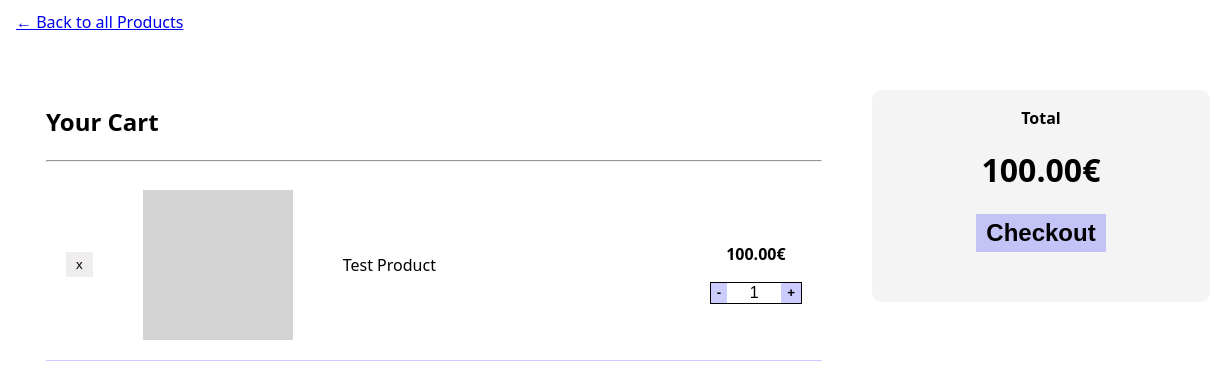
test behaviour of quantity changes › increases quantity of single product (product1) and updates total
Click the button "+" at (791,293), box [781, 283, 801, 303]
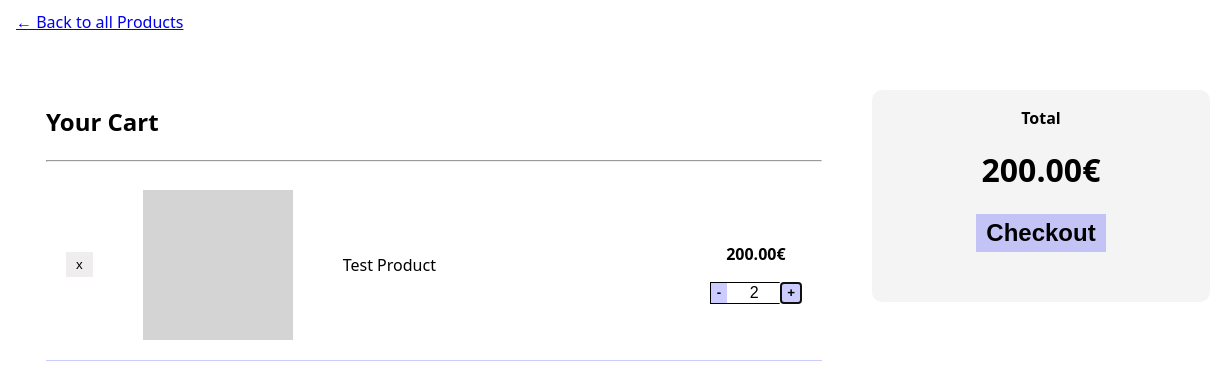
Click the button "+" at (791,293), box [781, 283, 801, 303]
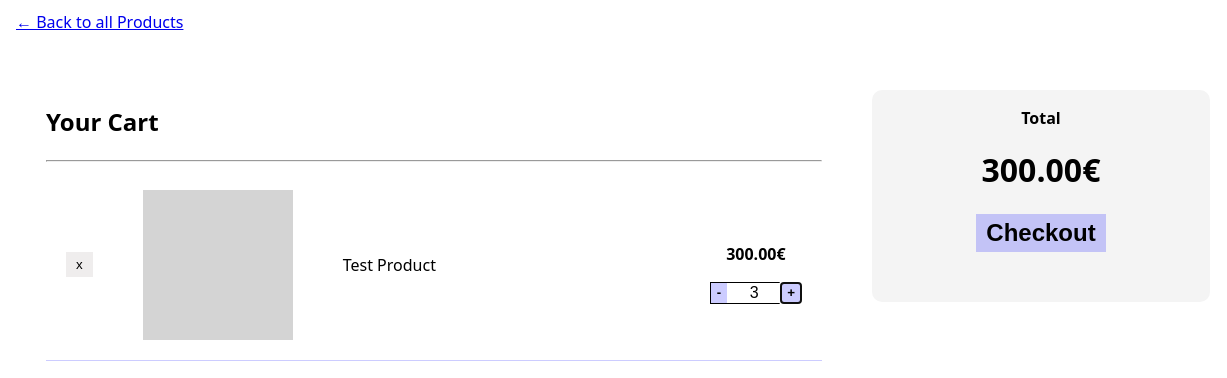
Result: the field holds "3" at [727, 283, 781, 303]
Result: the text with test id "totalAmount" reads "300.00€" at [982, 148, 1100, 191]
Click the button "-" at (719,293), box [711, 283, 727, 303]
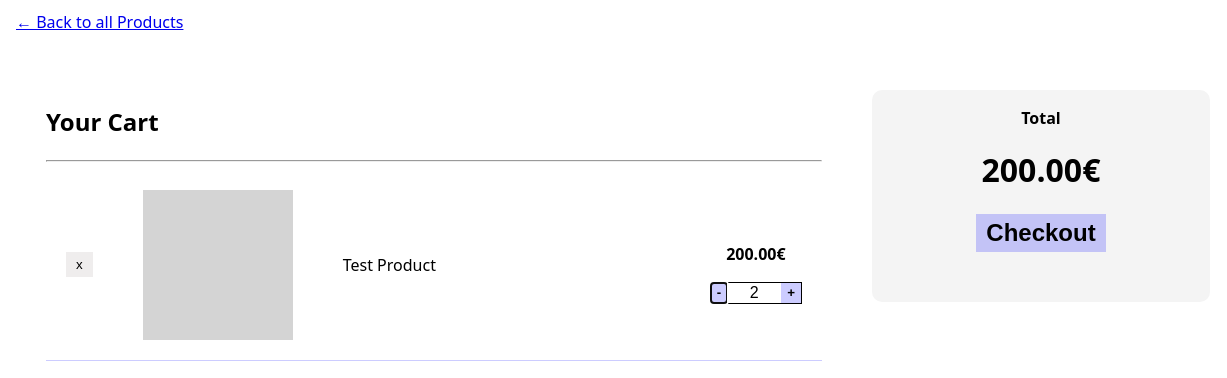
Result: the field holds "2" at [727, 283, 781, 303]
Result: the text with test id "totalAmount" reads "200.00€" at [982, 148, 1100, 191]
